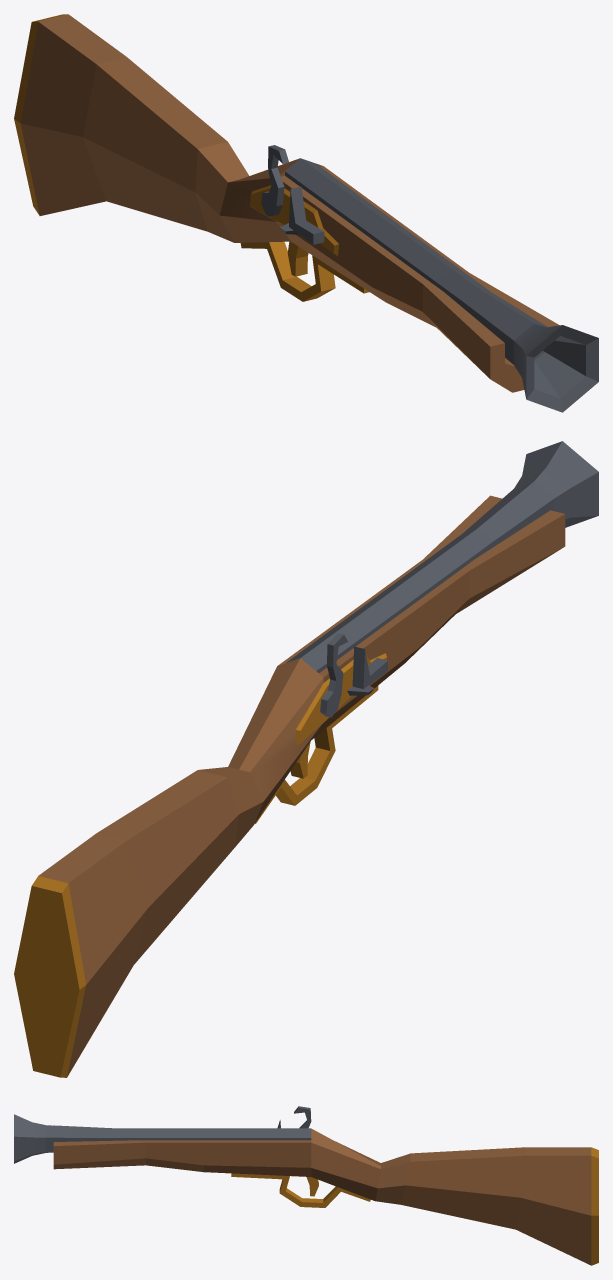
File: Blunderbuss.fbx
3 renders of one model, top to bottom at view 1: azimuth 30°, elevation 25°; view 2: azimuth 150°, elevation 25°; view 3: azimuth 270°, elevation 25°, orthographic. The views are drawn at different scales.
Parts seen in each view (by area): view 1: Blunderbuss; view 2: Blunderbuss; view 3: Blunderbuss.
Part boxes in pixels (<box>): Blunderbuss: <box>14,14,598,412</box>; Blunderbuss: <box>14,441,598,1077</box>; Blunderbuss: <box>14,1106,598,1265</box>.
Bounding box in the file's own units: 8.88 × 27 × 96.8.
